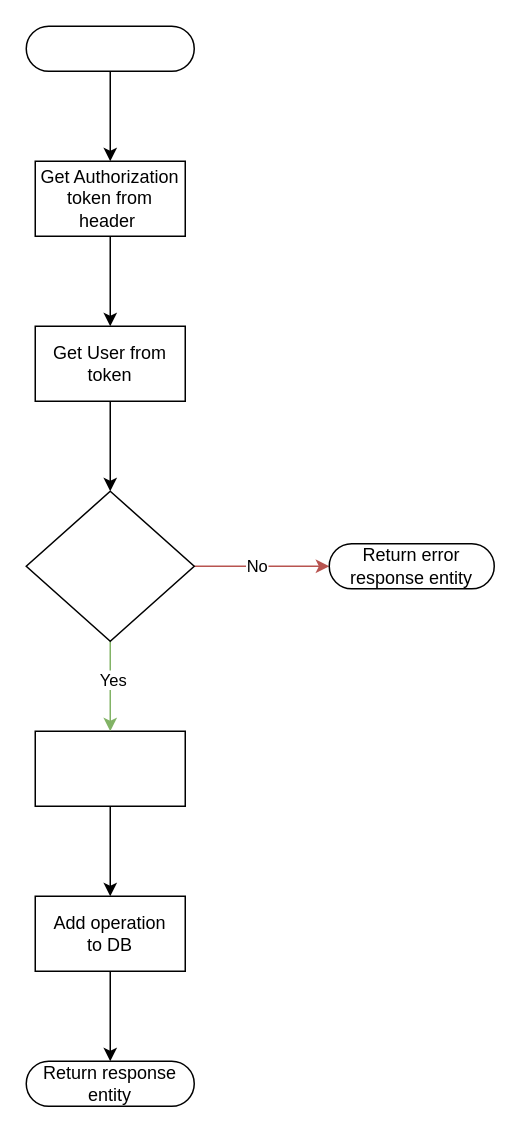
Some shapes in this 521 by 1133 pixel diagram are drawn without their labels. The shapes that lost their labels are listed below. From the top down, each one's centre as x and y in pixels, then its label:
At (x=109, y=48): "User press create operation button".
At (x=109, y=565): "User is authorized to create new operation?".
At (x=109, y=768): "Create new operation".
